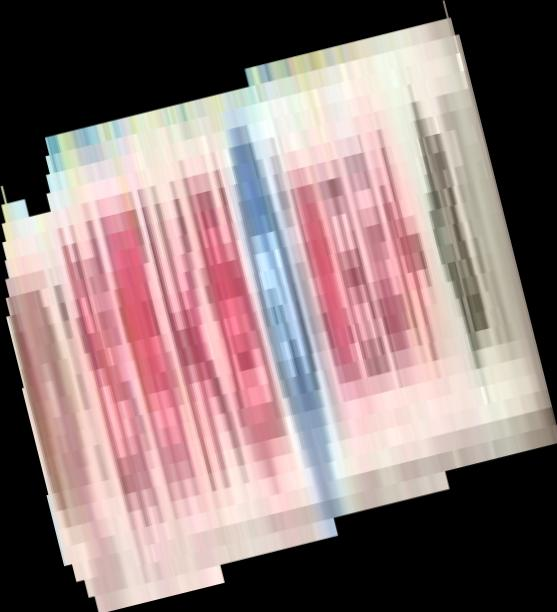flat: (1, 1, 557, 612)
